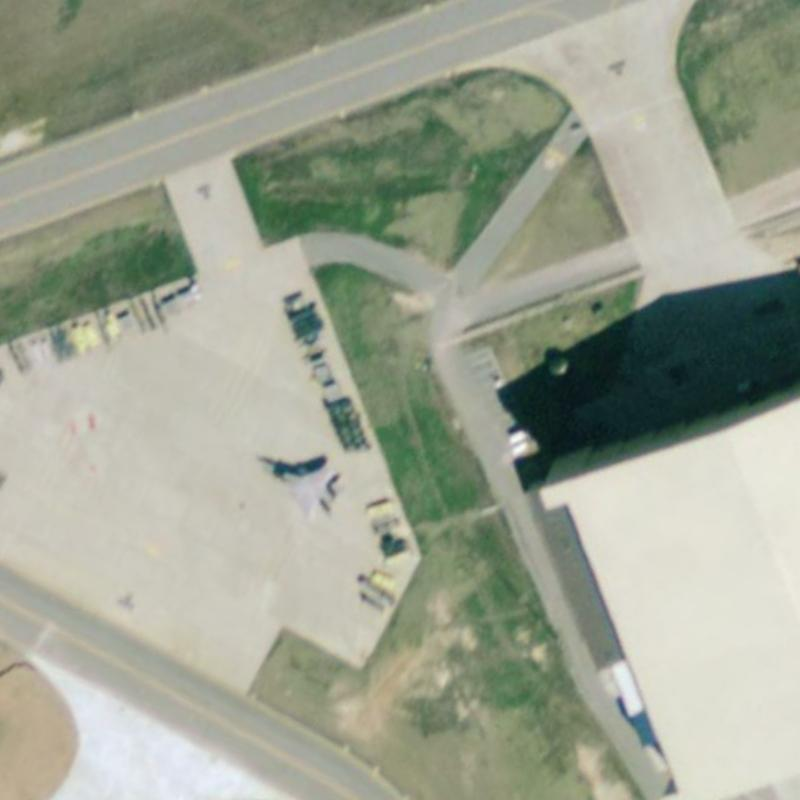A13: (252, 447, 343, 522)
